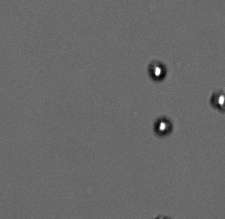Living Cell: (148, 60, 167, 82), (154, 116, 172, 135), (213, 90, 225, 109)
